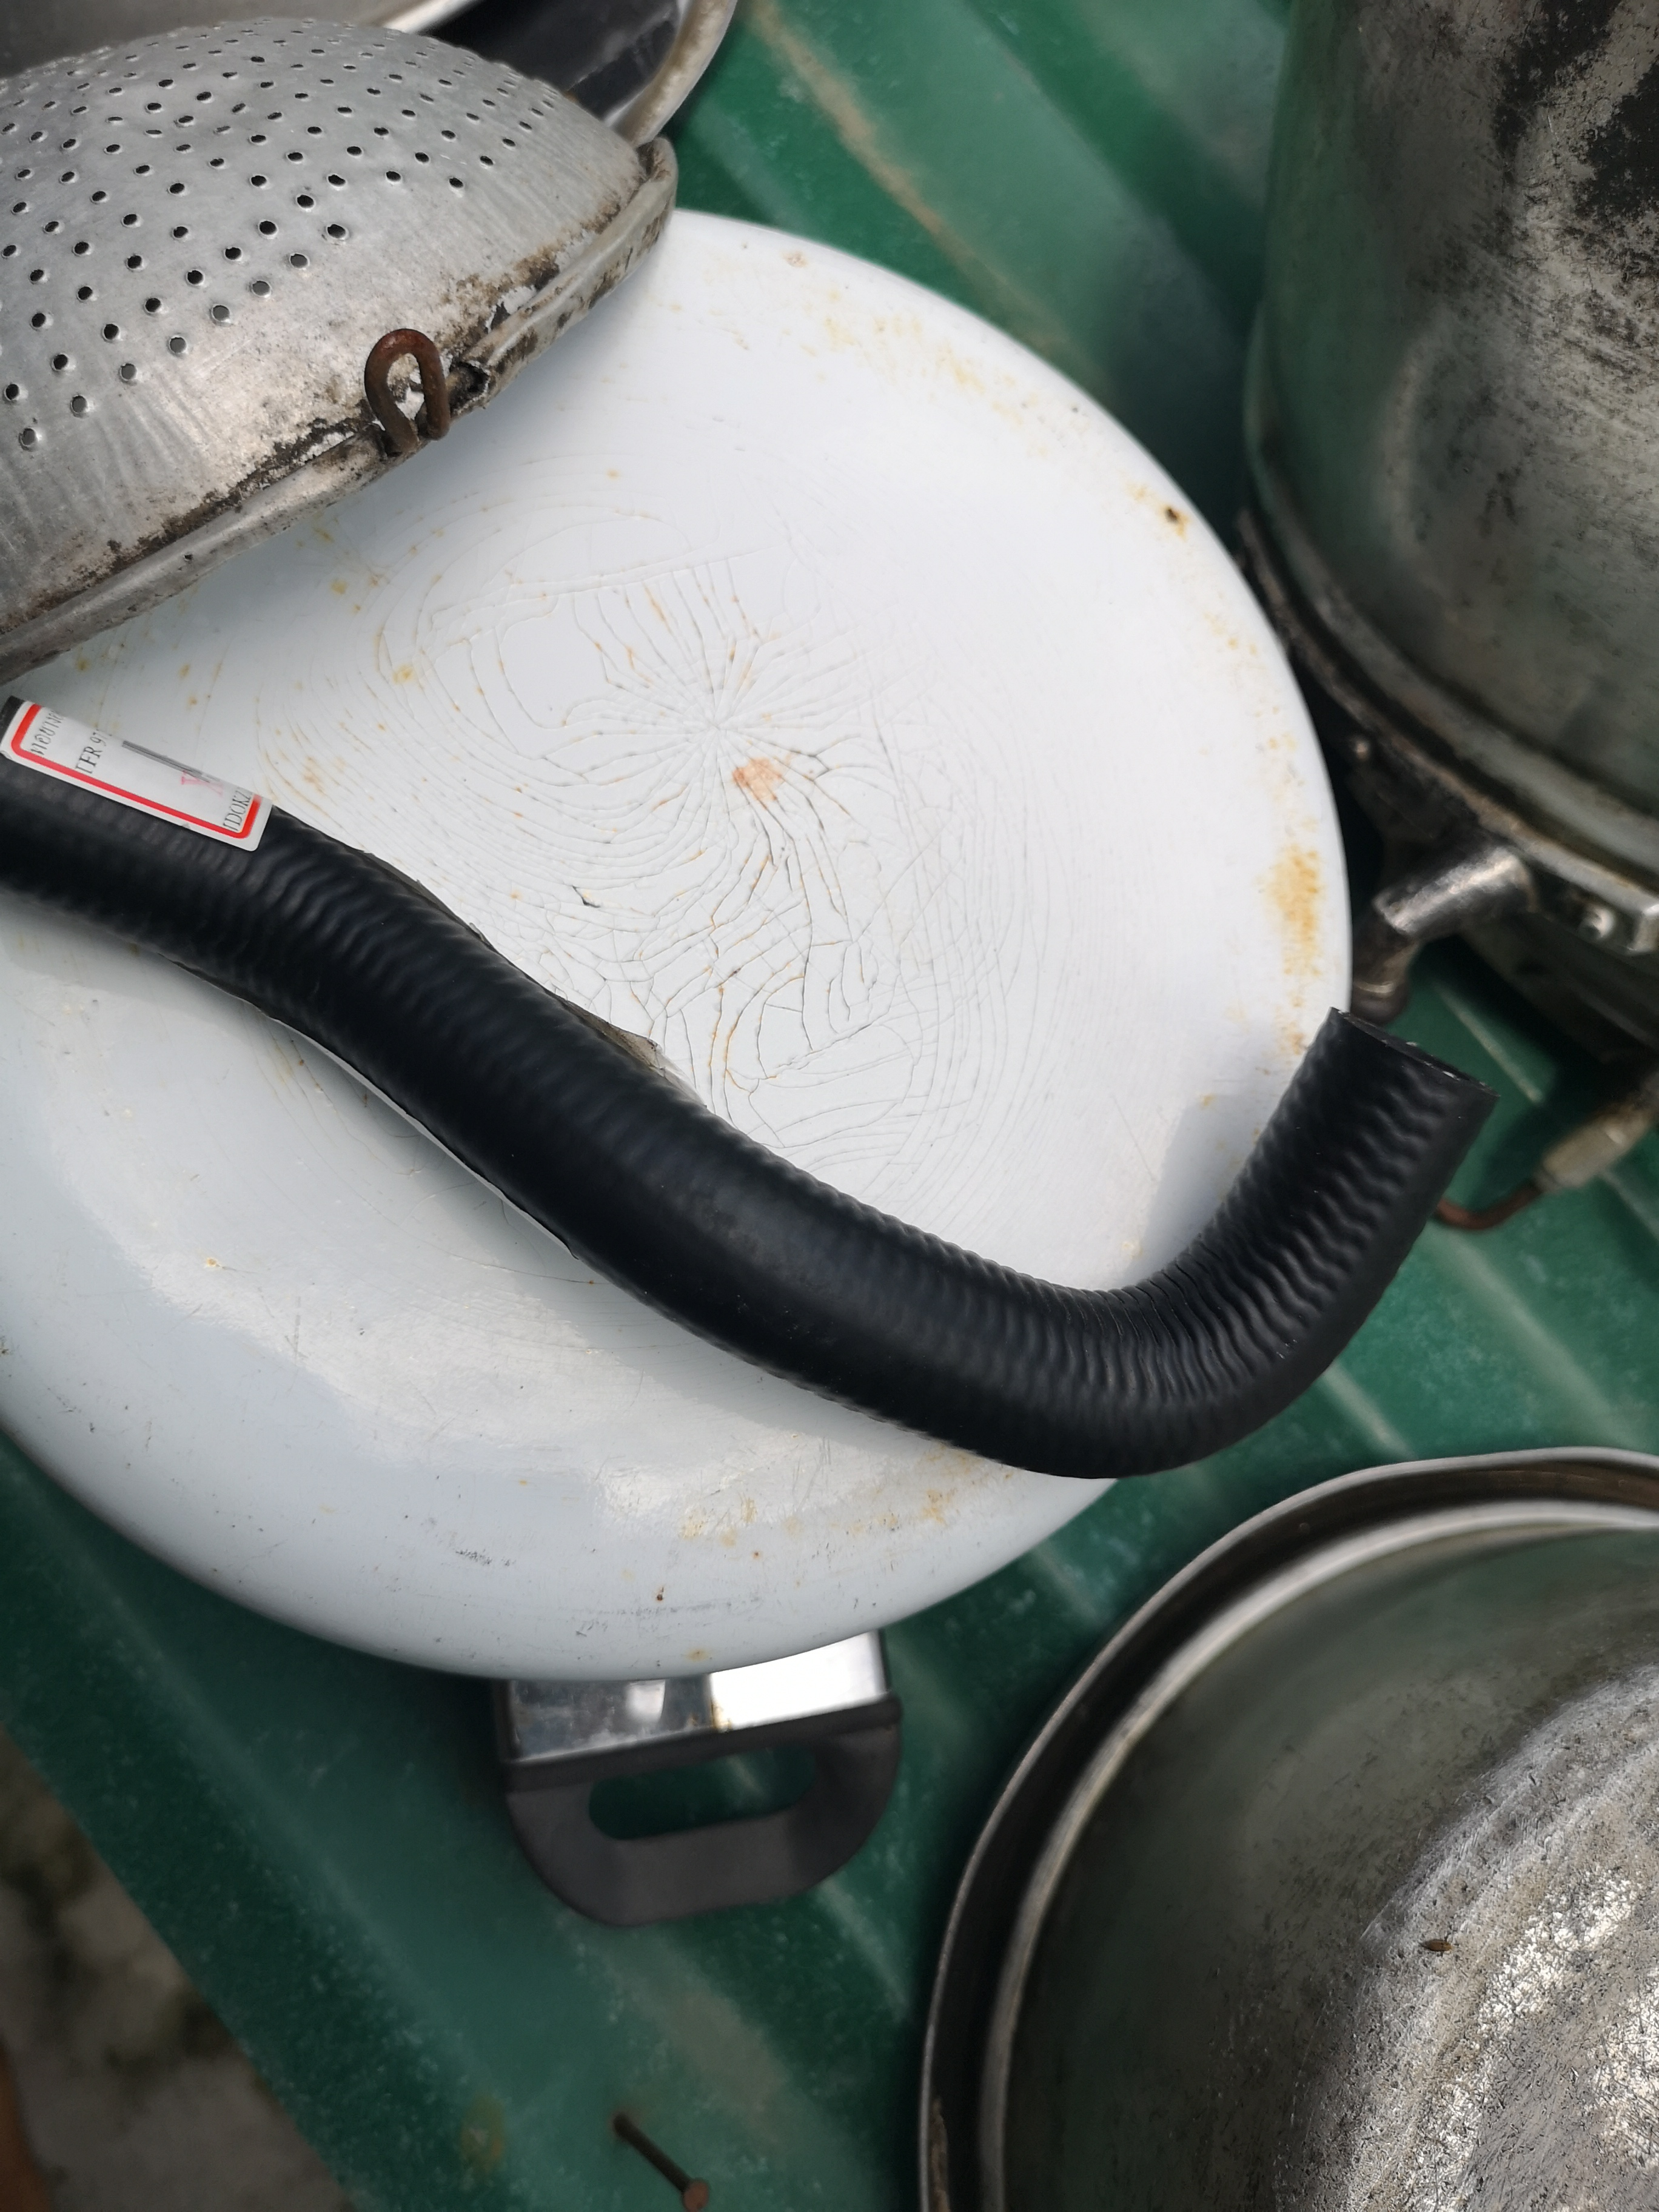ท่อยางน้ำมันเลี้ยงเทอร์โบ: (0, 738, 1565, 1439)
